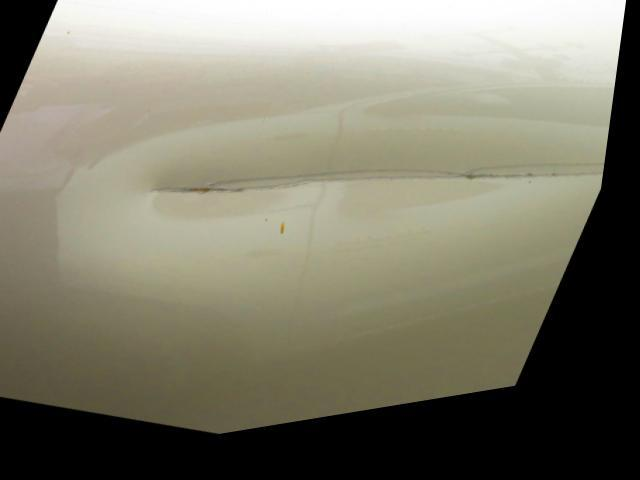dent: (112, 121, 553, 286)
